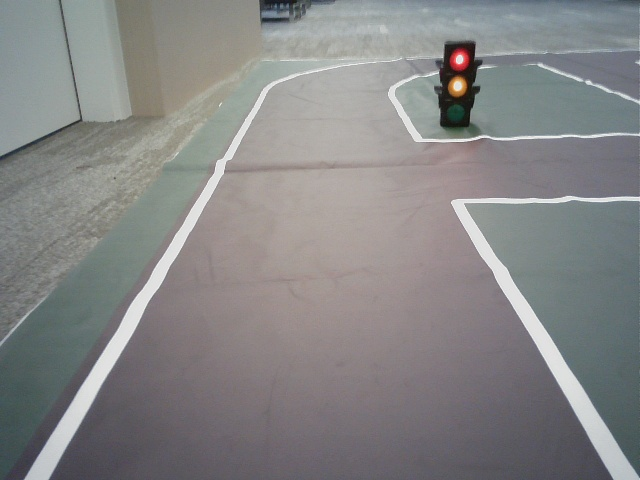red: (444, 45, 469, 123)
